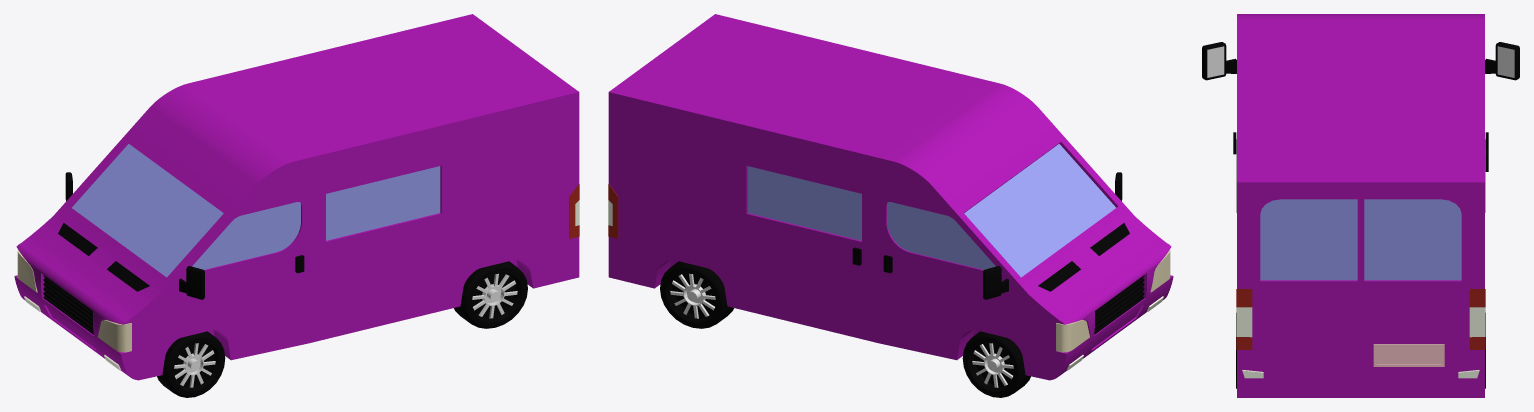
3 views of the same model, side by side, from view 1: azimuth 30°, elevation 25°; view 2: azimuth 150°, elevation 25°; view 3: azimuth 270°, elevation 25° (orthographic). The views are drawn at different scales.
Parts seen in each view (by area): view 1: car1; view 2: car1; view 3: car1.
Part boxes in pixels (x1,y1,x2,y2): car1: (14, 14, 579, 397); car1: (608, 14, 1173, 397); car1: (1202, 14, 1519, 397).
Bounding box in the file's own units: 591 × 266 × 304.
